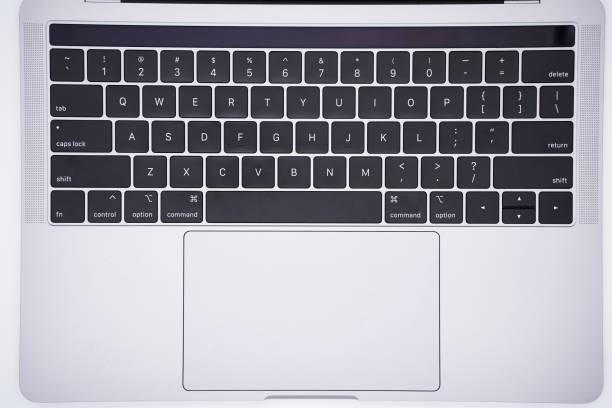keyboard: (47, 22, 576, 227)
